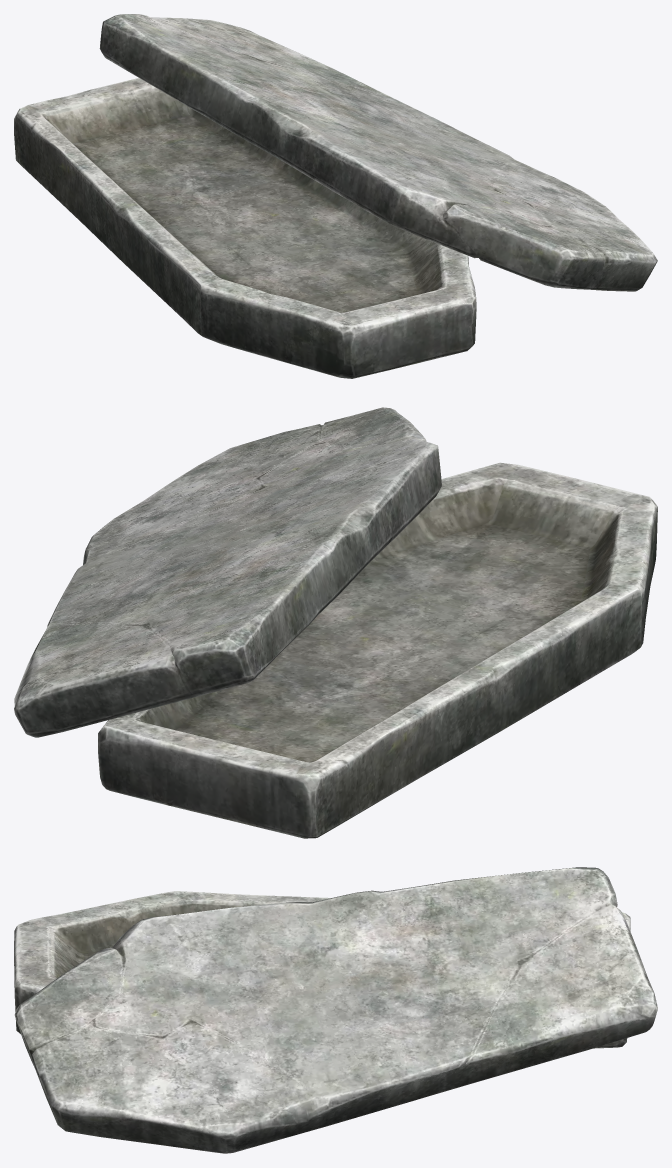
3 renders of one model, top to bottom at view 1: azimuth 30°, elevation 25°; view 2: azimuth 150°, elevation 25°; view 3: azimuth 270°, elevation 25°, orthographic. The views are drawn at different scales.
Visible parts, largest first — view 1: SM_Coffin_01v3_LOD0; view 2: SM_Coffin_01v3_LOD0; view 3: SM_Coffin_01v3_LOD0.
Boxes of the visible parts, left/top/right/bottom form: SM_Coffin_01v3_LOD0: left=14, top=14, right=657, bottom=378; SM_Coffin_01v3_LOD0: left=14, top=407, right=657, bottom=838; SM_Coffin_01v3_LOD0: left=14, top=867, right=657, bottom=1153.
Size of the model in its own units: 1.82 by 0.625 by 2.41.
1 material, 1 textured.
